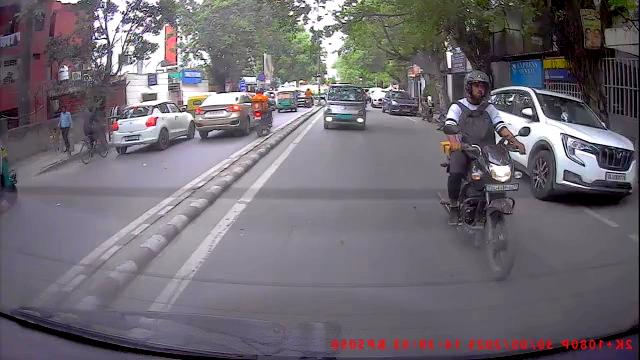motorcycle_with_helmet: (439, 68, 526, 281)
